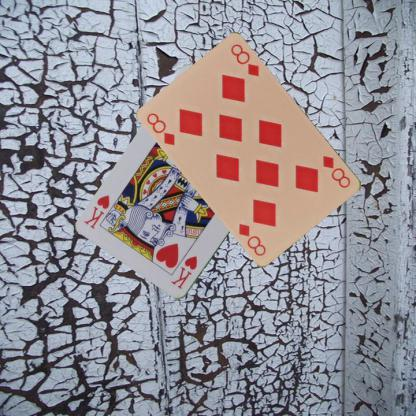8d: (320, 153, 354, 190), (144, 110, 177, 147)
Kh: (168, 253, 198, 291)
